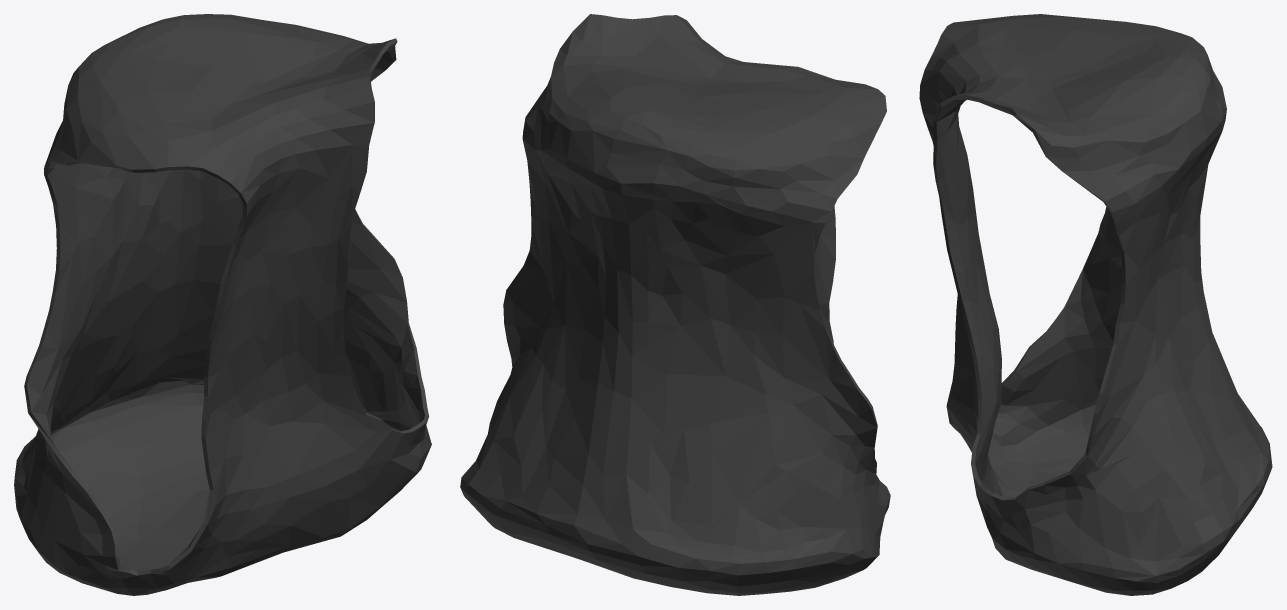
The model's file is l1_body.glb.
The picture shows the model from 3 angles, left to right: view 1: azimuth 30°, elevation 25°; view 2: azimuth 150°, elevation 25°; view 3: azimuth 270°, elevation 25°; orthographic projection. The views are drawn at different scales.
Visible parts, largest first — view 1: l1_body; view 2: l1_body; view 3: l1_body.
Boxes of the visible parts, bbox=[...] form: l1_body: bbox=[14, 14, 431, 595]; l1_body: bbox=[460, 14, 890, 595]; l1_body: bbox=[919, 14, 1272, 595].
Size of the model in its own units: 24.61 by 29.93 by 19.53.
1 material, 1 textured.
